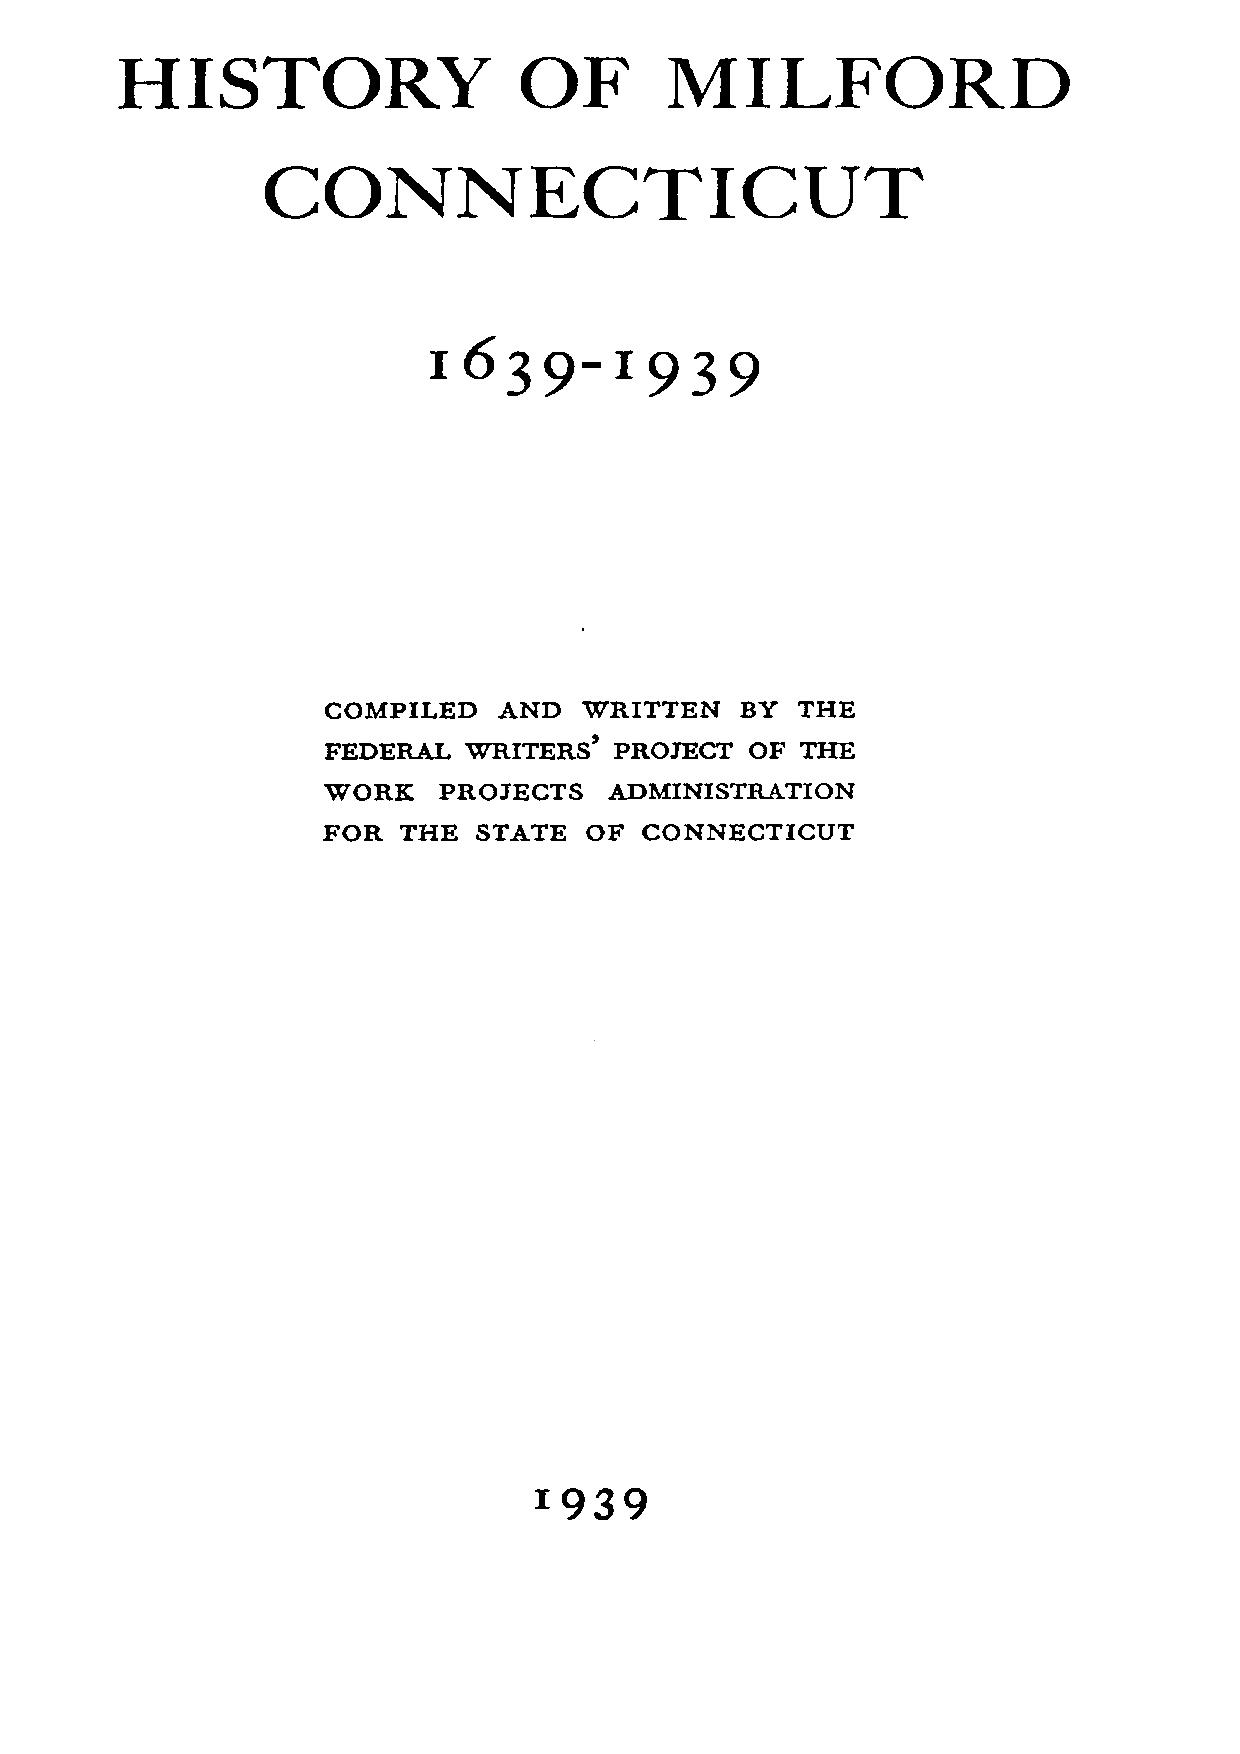title: (107, 55, 1074, 223)
